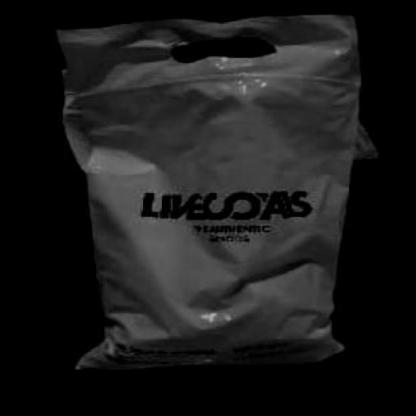objects: (56, 16, 364, 376)
